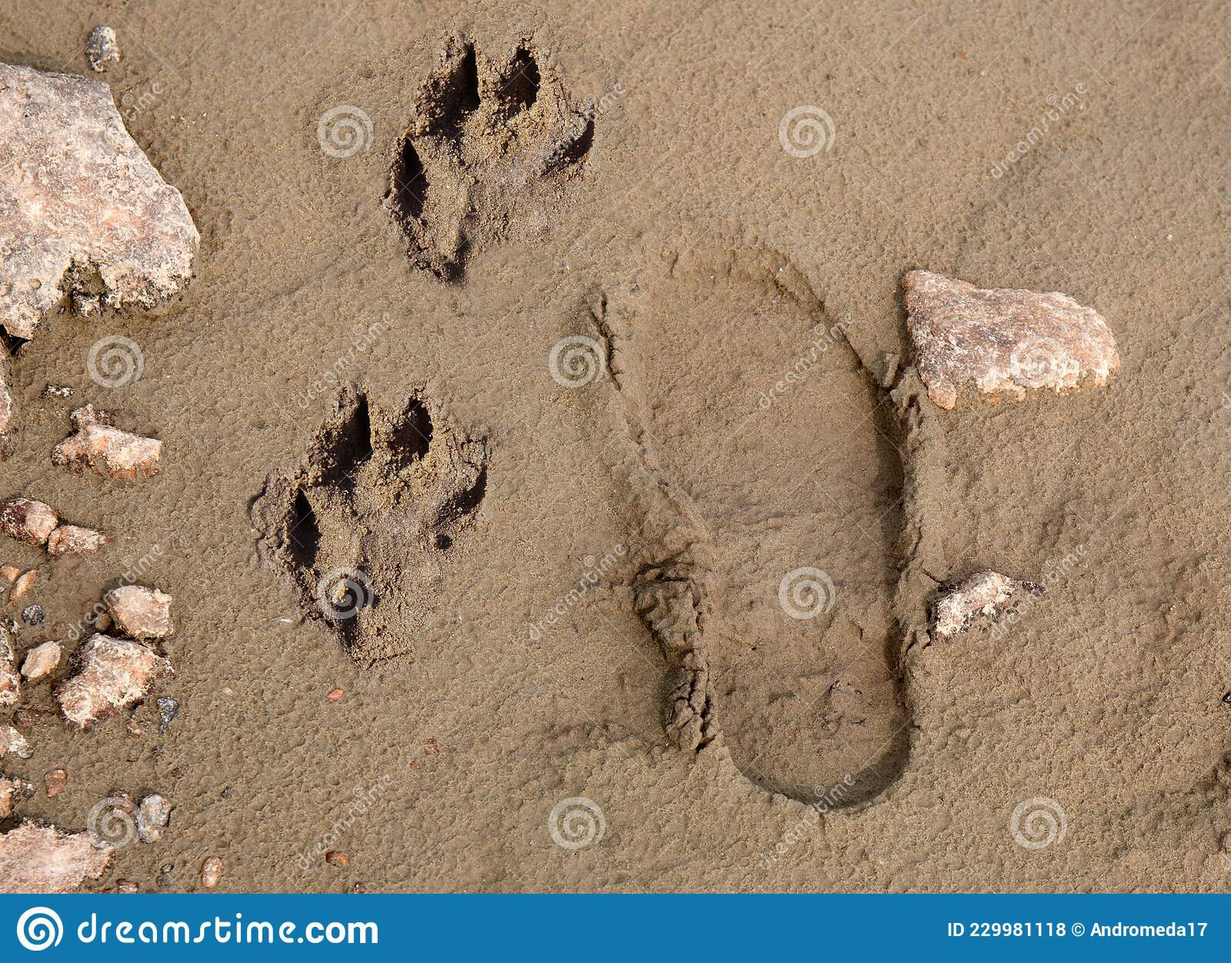human_foot_print: (602, 203, 966, 834), (260, 378, 521, 644), (380, 41, 589, 309)
